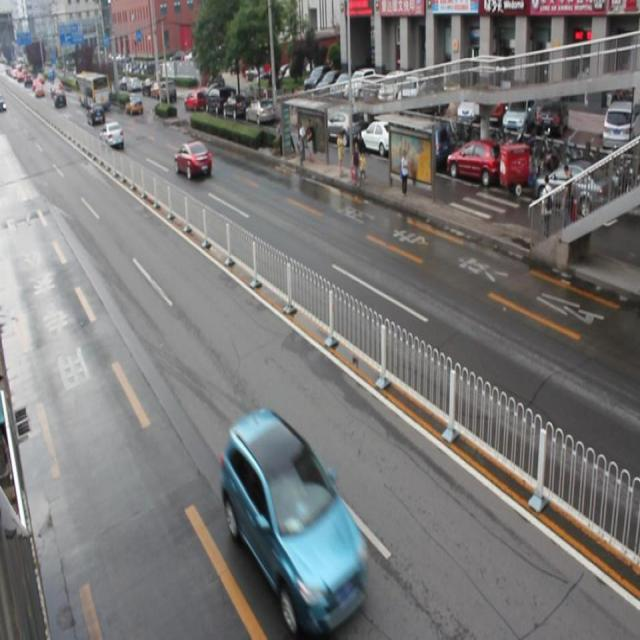car: (224, 410, 368, 625), (175, 140, 212, 180), (99, 121, 124, 148)
